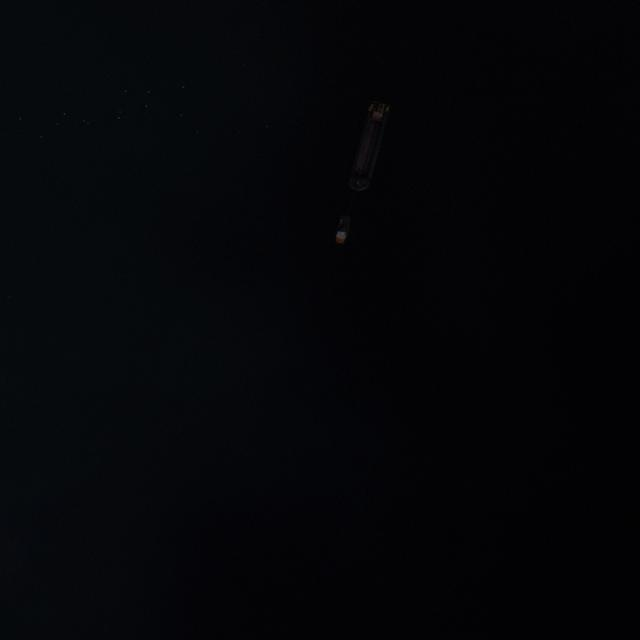Container Ship: (345, 96, 394, 197)
Other Ship: (334, 214, 353, 244)
